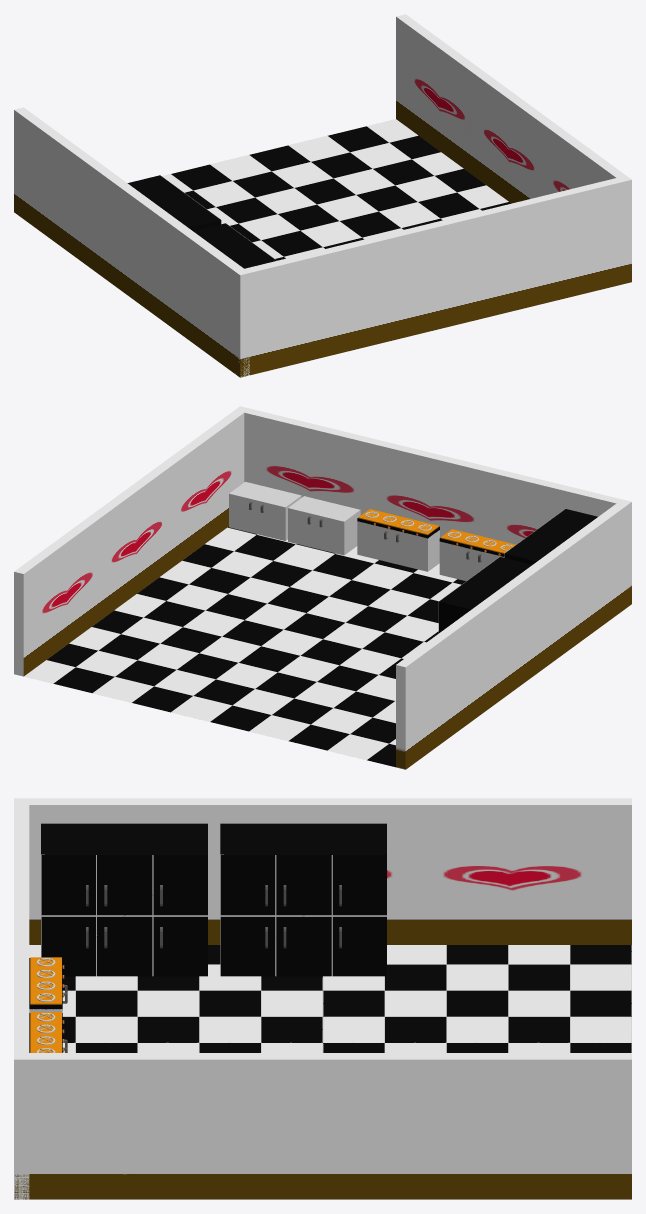
File: Sec_room1.fbx
The picture shows the model from 3 angles, top to bottom: view 1: azimuth 30°, elevation 25°; view 2: azimuth 150°, elevation 25°; view 3: azimuth 270°, elevation 25°; orthographic projection. The views are drawn at different scales.
Visible parts, largest first — view 1: pCube13, pPlane1, pCube66, pCube68, maid_pCube9 (×2); view 2: pPlane1, pCube66, pCube68, pCube13, maid_pCube8 (×2), maid_pCube9 (×2), maid_pCube6 (×2), maid_pCube7 (×2); view 3: pCube68, pPlane1, maid_pCube9 (×2), pCube66, pCube13, maid_pCube7 (×2).
Part boxes in pixels (<box>): pCube13: <box>234,177,631,377</box>; pPlane1: <box>162,119,510,260</box>; pCube66: <box>14,107,249,377</box>; pCube68: <box>396,14,631,274</box>; maid_pCube9 (×2): <box>127,175,276,268</box>; pPlane1: <box>24,526,465,767</box>; pCube66: <box>396,499,631,769</box>; pCube68: <box>14,406,247,676</box>; pCube13: <box>235,406,631,607</box>; maid_pCube8 (×2): <box>229,482,360,555</box>; maid_pCube9 (×2): <box>438,509,597,633</box>; maid_pCube6 (×2): <box>357,521,504,580</box>; maid_pCube7 (×2): <box>358,509,515,553</box>; pCube68: <box>14,1053,631,1199</box>; pPlane1: <box>29,945,631,1052</box>; maid_pCube9 (×2): <box>41,823,386,976</box>; pCube66: <box>14,798,631,944</box>; pCube13: <box>14,798,29,1199</box>; maid_pCube7 (×2): <box>30,957,61,1052</box>.
Size of the model in its own units: 2000 by 502 by 2000.
Materials: 8 (4 with a texture image).
